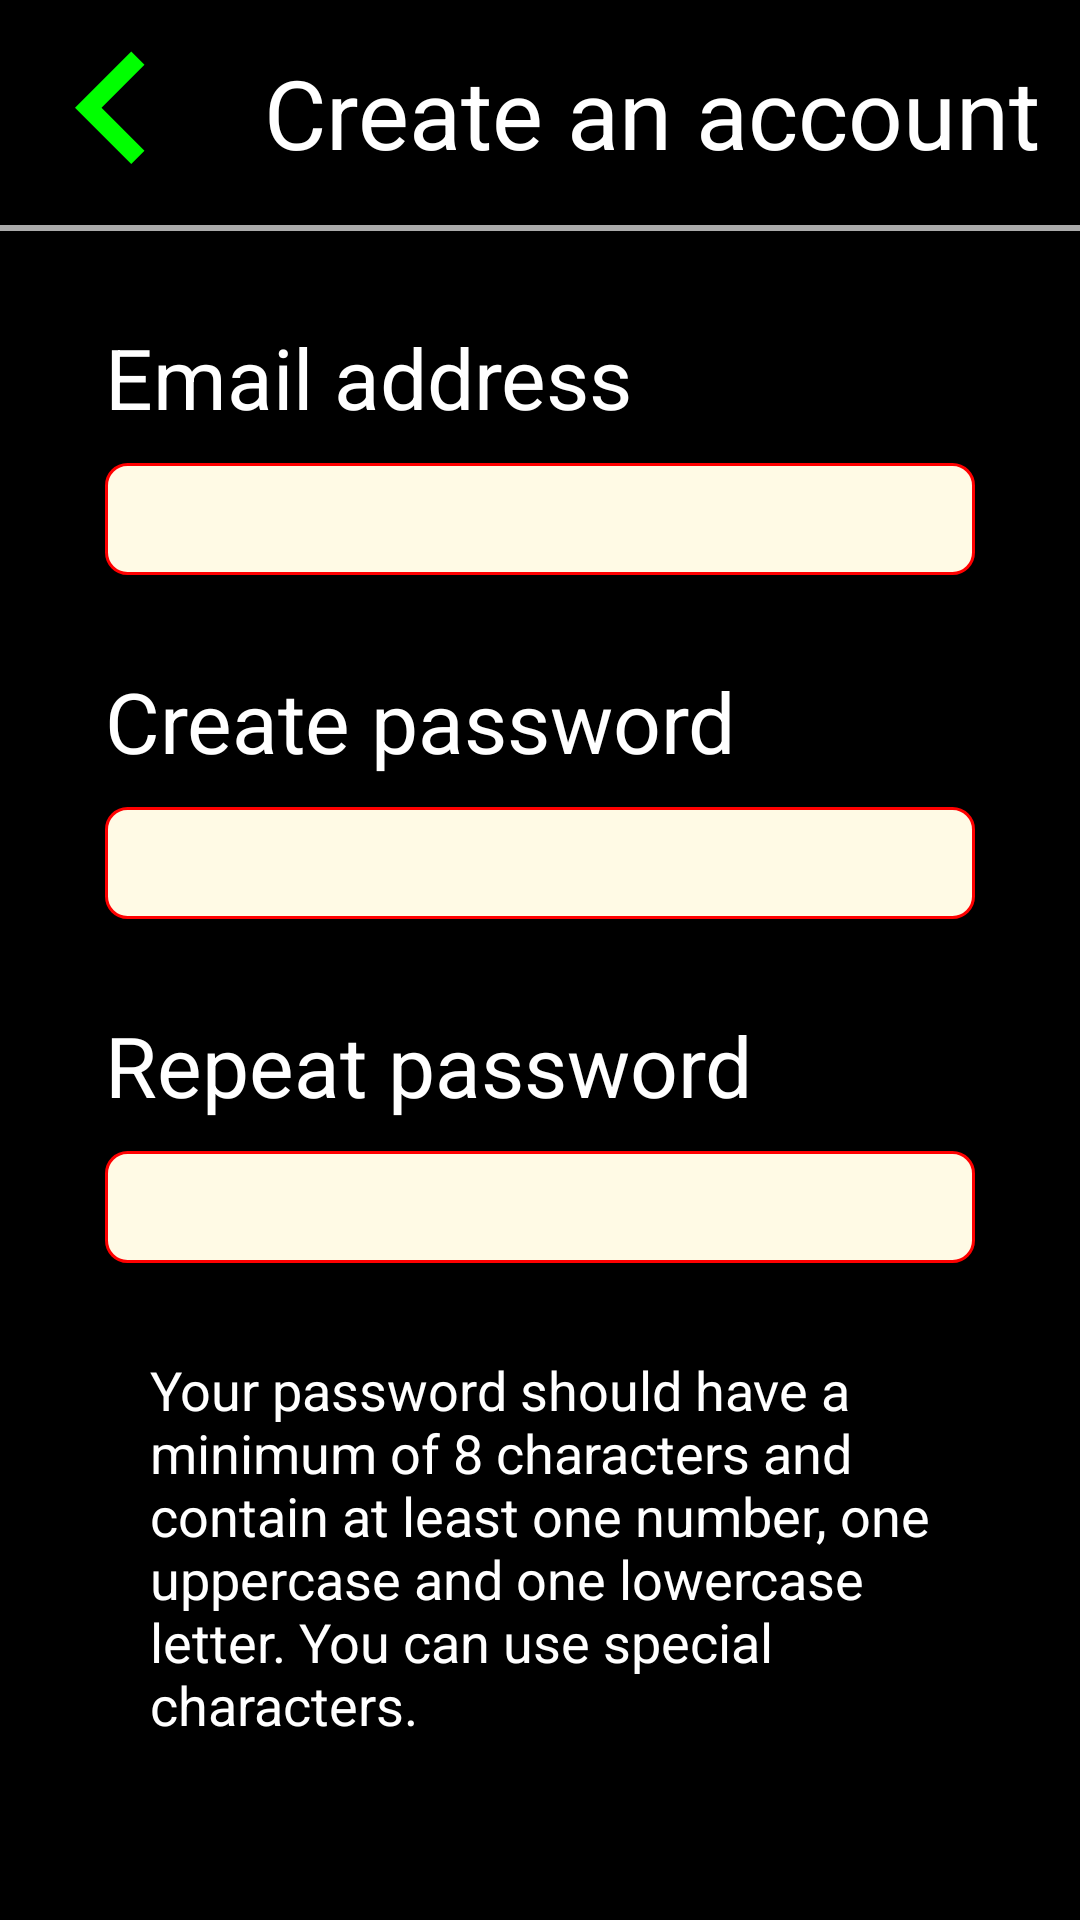

Screen size 1080 x 1920. Icon name, then its center in pixels as point (x, y):
keyboard arrow left: point (110, 107)
